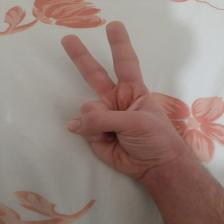two: (57, 18, 192, 172)
